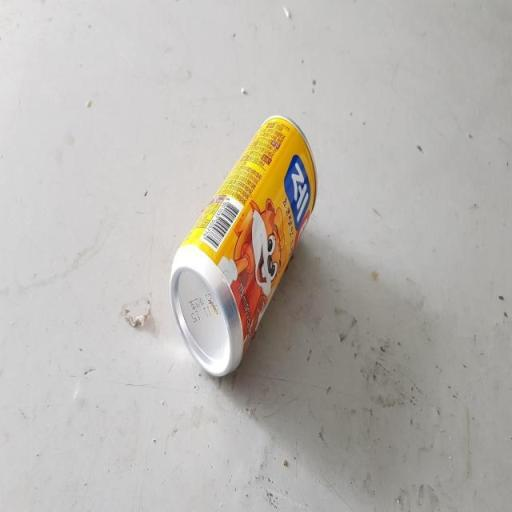metal: (156, 115, 334, 393)
